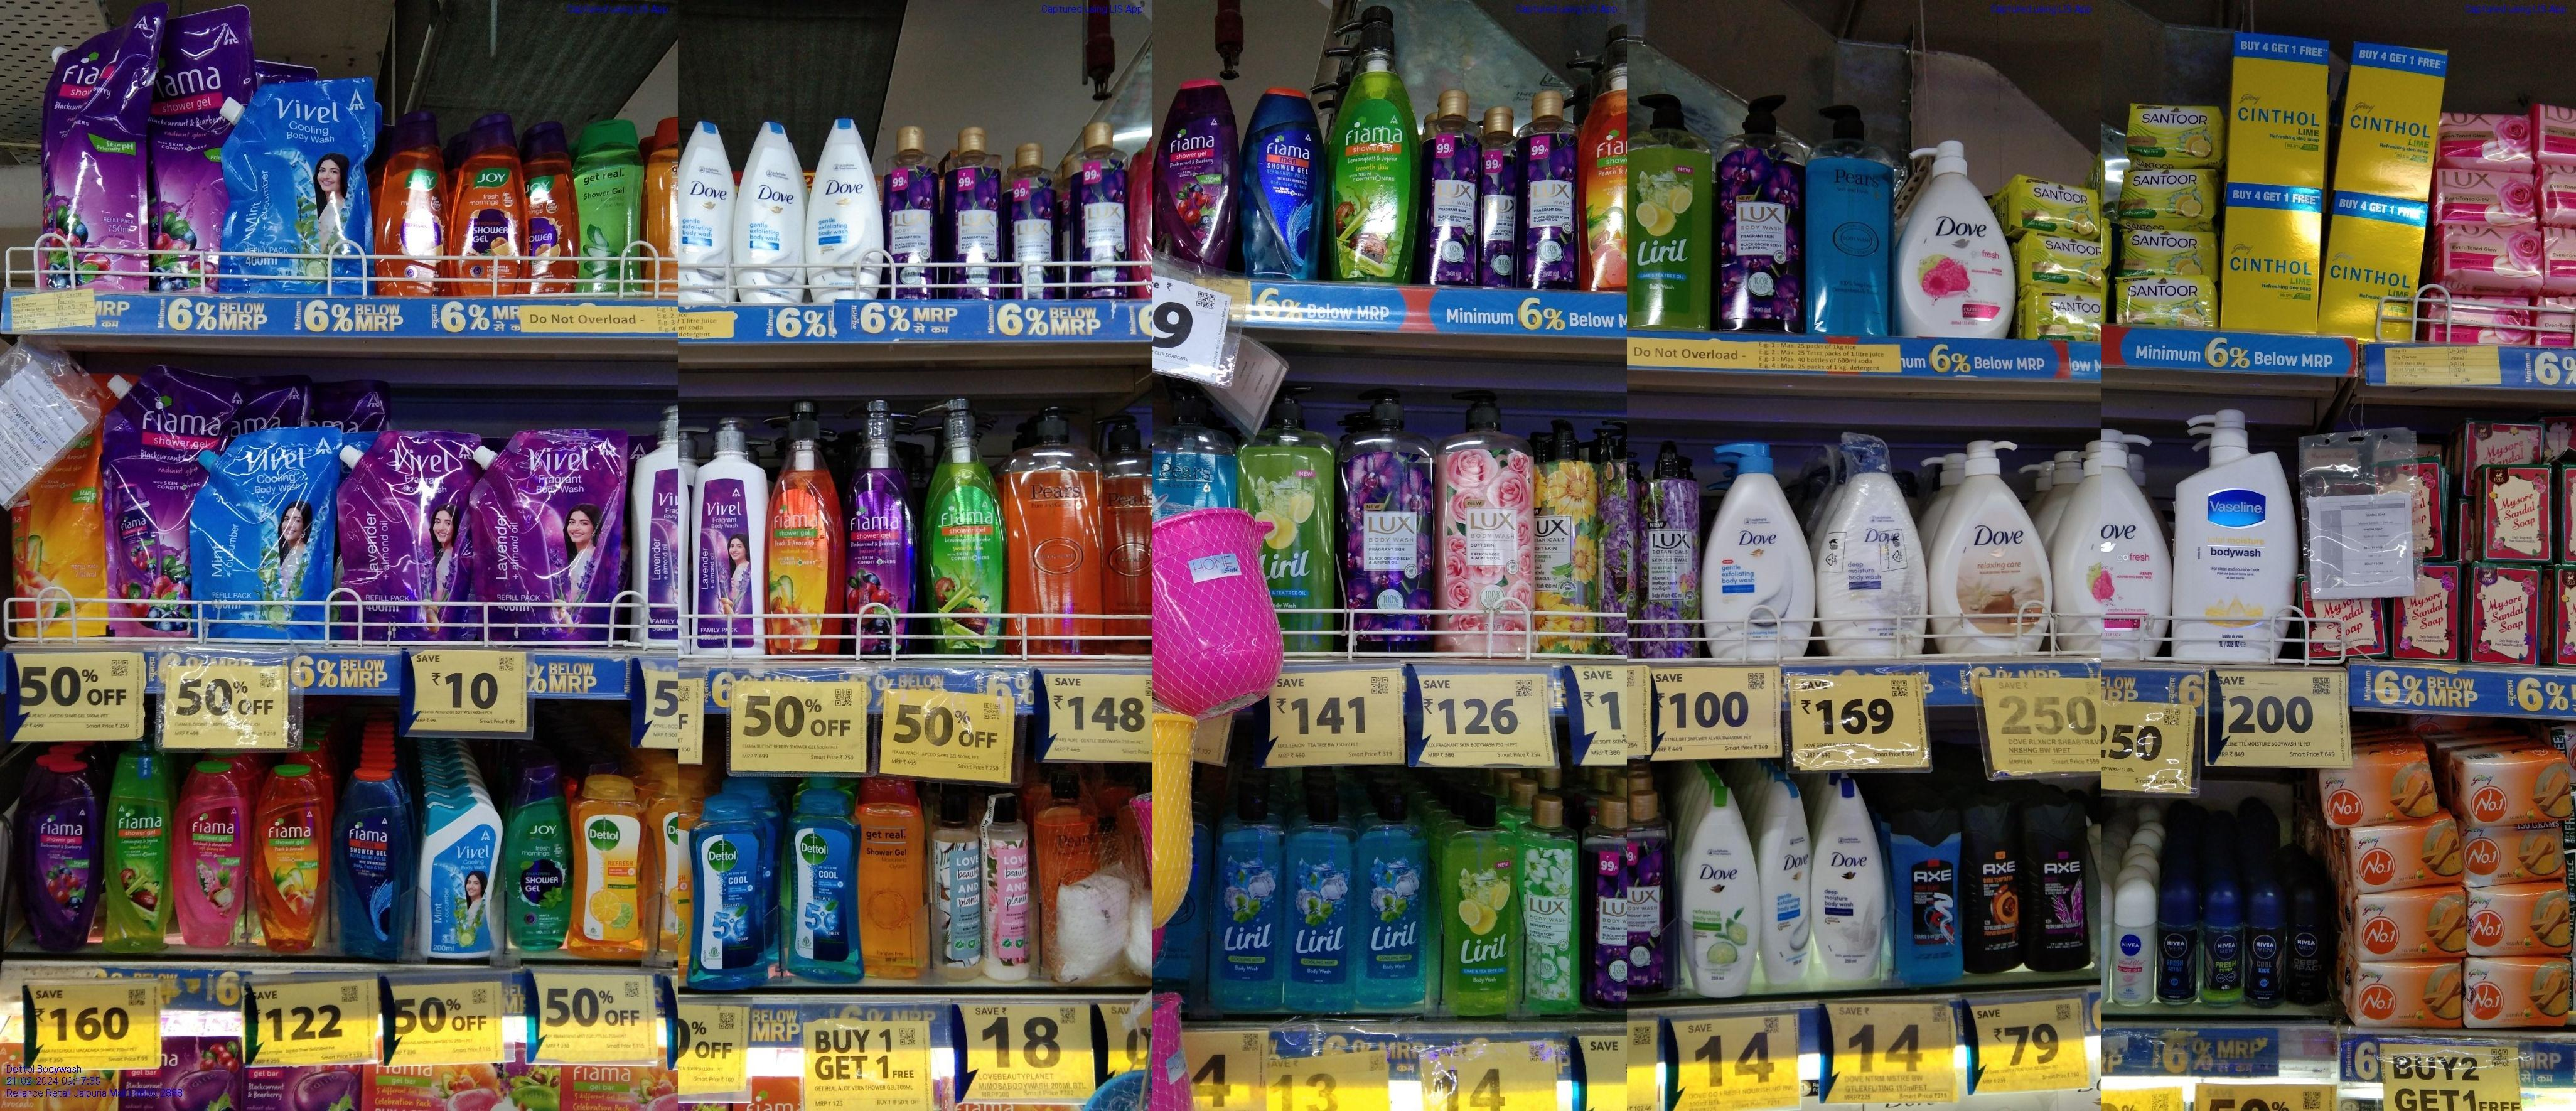Dettol_Bodywash_Cool: (688, 787, 767, 991), (787, 791, 862, 983)
Dettol_Bodywash_Refresh: (572, 772, 644, 960)
Dove_Deep_Moisture_Body_Wash_250ML: (1819, 774, 1884, 988)
Dove_Gentle_Exfoliating_Body_Wash_250ML: (810, 118, 884, 301), (738, 120, 805, 304), (1759, 772, 1810, 984), (678, 118, 734, 304)
Dove_Refreshing_Body_Wash_250ML: (1687, 776, 1753, 996)
Fiama_Shower_Gel_Lemongrass_and_Jojoba_250ML: (102, 749, 172, 953)
Fiama_Shower_Gel_Patchouli_and_Macadamia_250ML: (177, 759, 243, 947)
Fiama_Shower_Gel_Peach_and_Avocado_250ML: (251, 754, 325, 953)
Get_Real_Shower_Gel_Moisturising_Glycerin_300ML: (867, 779, 925, 978)
Joy_Shower_Gel_Mandarin_and_Lemongrass_250ML: (448, 120, 521, 299), (383, 118, 442, 302), (524, 127, 577, 294)
Joy_Shower_Gel_Mint_and_Eucalyptus_250ML: (506, 764, 568, 950)
Liril_Cooling_Mint_Body_Wash_250ML: (1209, 777, 1283, 1012), (1357, 784, 1428, 1009), (1291, 779, 1352, 1011)
Liril_Lime_and_Tea_Tree_Oil_Body_Wash_250ML: (1446, 791, 1521, 1012)
Lux_Black_Orchid_Scent_and_Juniper_Oil_Body_Wash_245ML: (1520, 94, 1580, 288), (1071, 120, 1132, 299), (946, 123, 1004, 299), (1424, 90, 1475, 283), (1633, 789, 1677, 998), (889, 120, 938, 299), (1590, 795, 1628, 1009), (1007, 141, 1058, 299), (1480, 107, 1516, 288)
Lux_Body_Wash_Skin_Detox_Freesia_Scent_and_Alove_Vera_245ML: (1526, 794, 1579, 1011)
